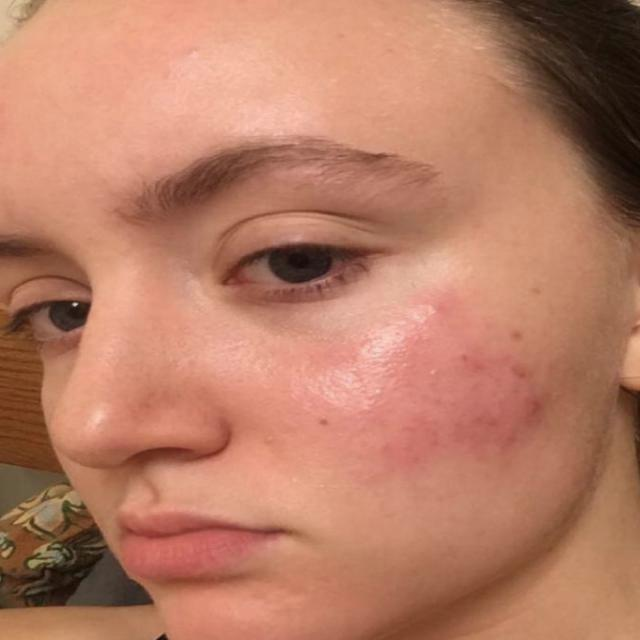Pimples: (516, 389, 552, 417), (504, 323, 527, 342), (311, 412, 331, 432), (530, 278, 549, 297)
